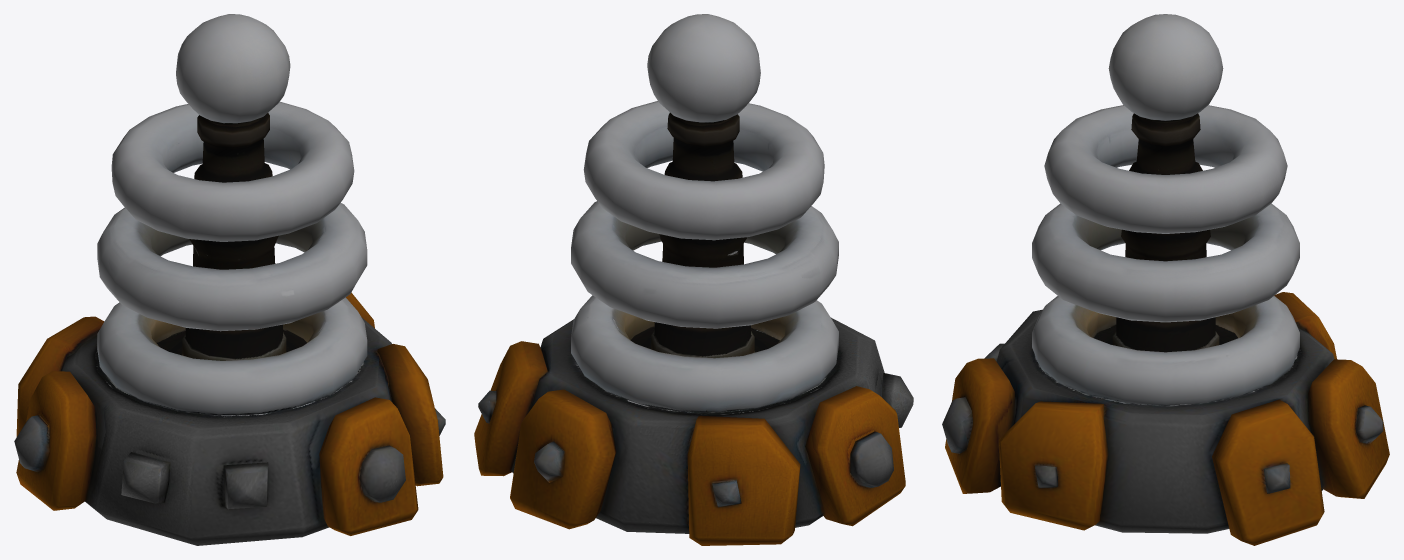
File: Spring.fbx
3 renders of one model, left to right at view 1: azimuth 30°, elevation 25°; view 2: azimuth 150°, elevation 25°; view 3: azimuth 270°, elevation 25°, orthographic.
Visible parts, largest first — view 1: tripo_node_9b0fd04e; view 2: tripo_node_9b0fd04e; view 3: tripo_node_9b0fd04e.
Part boxes in pixels (x1=…): tripo_node_9b0fd04e: x1=14, y1=14, x2=445, y2=545; tripo_node_9b0fd04e: x1=474, y1=14, x2=913, y2=545; tripo_node_9b0fd04e: x1=942, y1=14, x2=1389, y2=545.
Size of the model in its own units: 91.99 by 92.38 by 99.8.
1 material, 1 textured.
